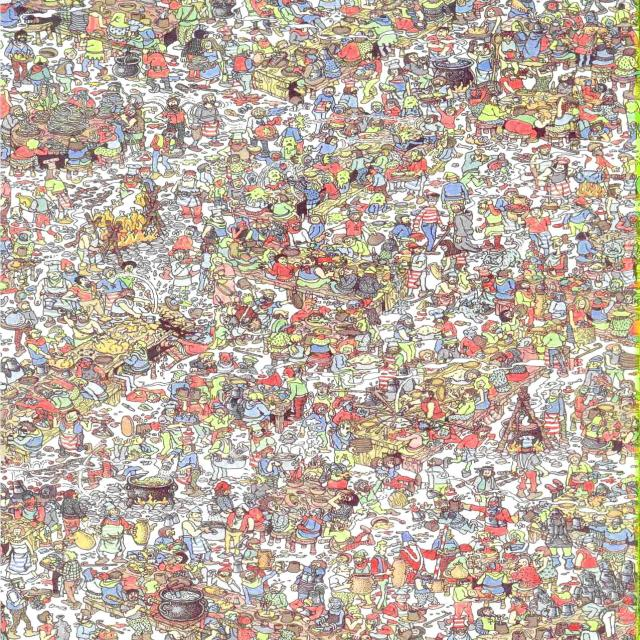waldo: (424, 188, 440, 206)
